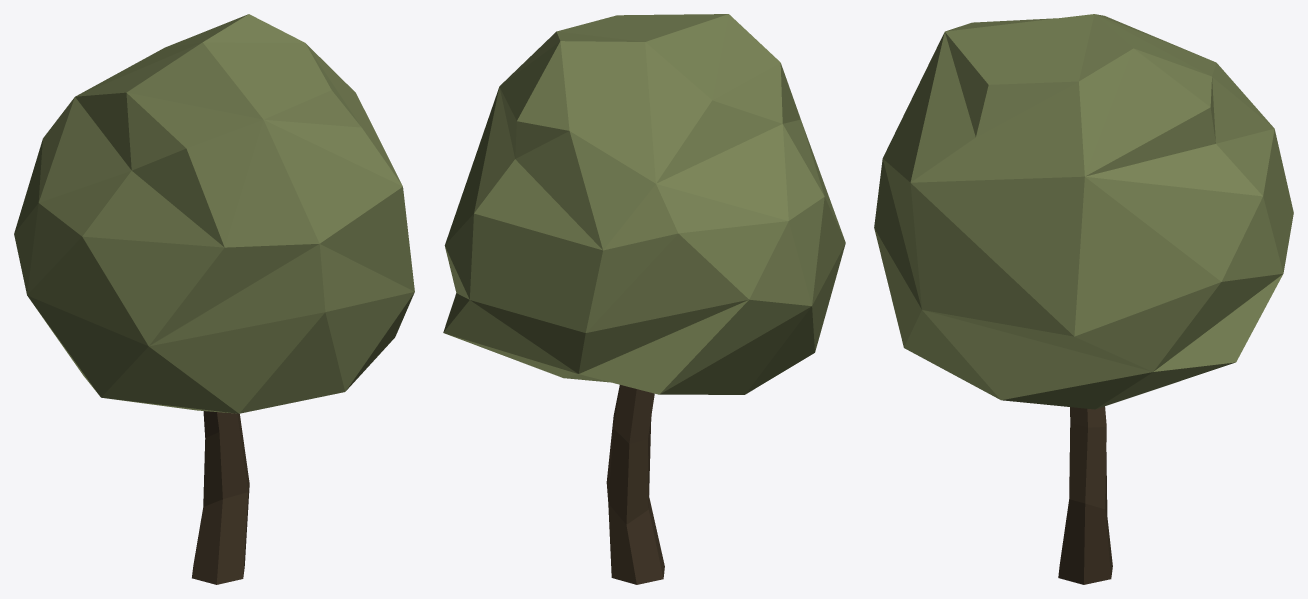
The model's file is Tree05.fbx.
The picture shows the model from 3 angles, left to right: view 1: azimuth 30°, elevation 25°; view 2: azimuth 150°, elevation 25°; view 3: azimuth 270°, elevation 25°; orthographic projection. The views are drawn at different scales.
Parts seen in each view (by area): view 1: pCube20; view 2: pCube20; view 3: pCube20.
Part boxes in pixels (x1,y1,x2,y2): pCube20: (14, 14, 414, 584); pCube20: (443, 14, 845, 584); pCube20: (874, 14, 1293, 584).
Size of the model in its own units: 355 by 496 by 341.
